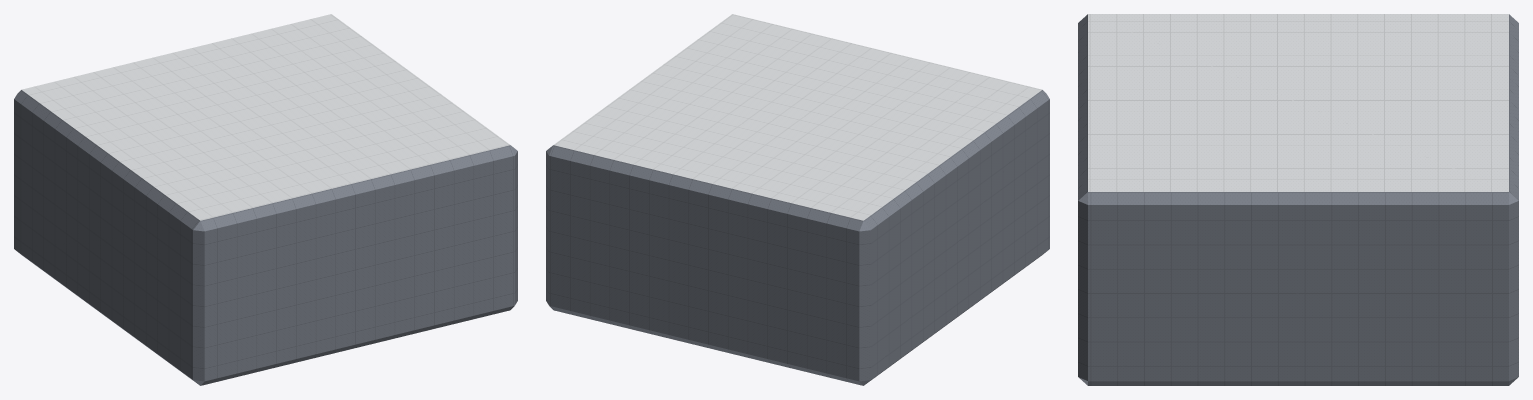
The model's file is R4B_Slab2x2_LOD1.glb.
3 views of the same model, side by side, from view 1: azimuth 30°, elevation 25°; view 2: azimuth 150°, elevation 25°; view 3: azimuth 270°, elevation 25° (orthographic). The views are drawn at different scales.
Visible parts, largest first — view 1: R4B_Slab2x2_LOD1; view 2: R4B_Slab2x2_LOD1; view 3: R4B_Slab2x2_LOD1.
Boxes of the visible parts, x1,y1,x2,y2 form: R4B_Slab2x2_LOD1: [14, 14, 517, 385]; R4B_Slab2x2_LOD1: [546, 14, 1049, 385]; R4B_Slab2x2_LOD1: [1078, 14, 1518, 385].
Size of the model in its own units: 1.07 by 0.52 by 1.07.
Materials: 2 (2 with a texture image).
